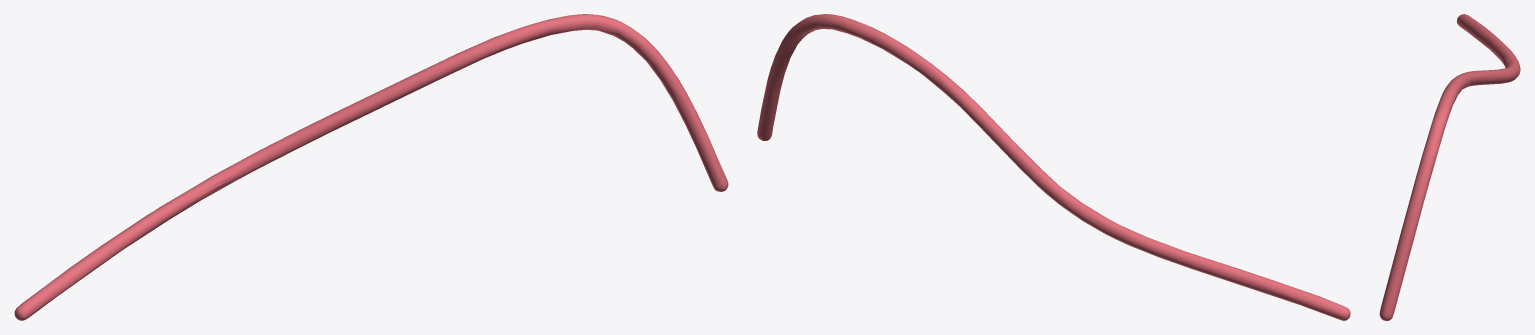
Rendered from fma52003_fj5001.glb.
The picture shows the model from 3 angles, left to right: view 1: azimuth 30°, elevation 25°; view 2: azimuth 150°, elevation 25°; view 3: azimuth 270°, elevation 25°; orthographic projection. The views are drawn at different scales.
Visible parts, largest first — view 1: FMA52003_FJ5001; view 2: FMA52003_FJ5001; view 3: FMA52003_FJ5001.
Part boxes in pixels (left/top/right/bottom): FMA52003_FJ5001: left=14, top=14, right=728, bottom=320; FMA52003_FJ5001: left=757, top=14, right=1350, bottom=320; FMA52003_FJ5001: left=1379, top=14, right=1520, bottom=320.
Bounding box in the file's own units: 0.0384 × 0.00994 × 0.00767.
